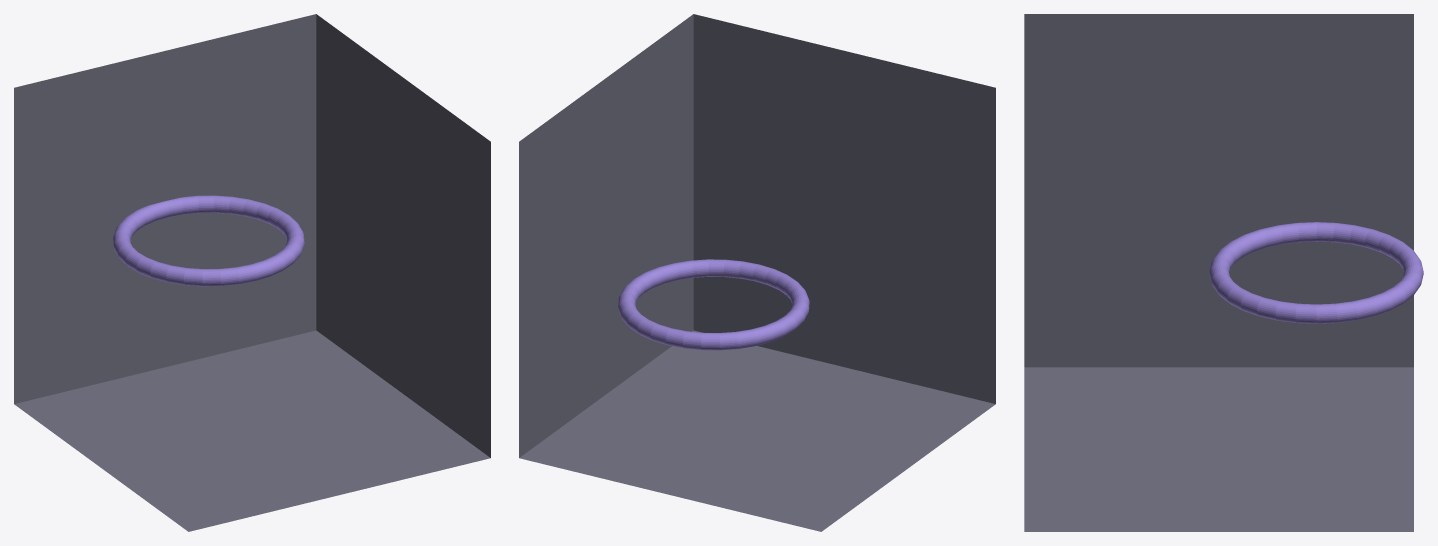
Rendered from portal_scene.glb.
3 views of the same model, side by side, from view 1: azimuth 30°, elevation 25°; view 2: azimuth 150°, elevation 25°; view 3: azimuth 270°, elevation 25° (orthographic). The views are drawn at different scales.
Parts seen in each view (by area): view 1: Room_Environment, Magic_Portal; view 2: Room_Environment, Magic_Portal; view 3: Room_Environment, Magic_Portal.
Part boxes in pixels (x1=…): Room_Environment: x1=14, y1=14, x2=490, y2=531; Magic_Portal: x1=113, y1=195, x2=304, y2=286; Room_Environment: x1=519, y1=14, x2=995, y2=531; Magic_Portal: x1=618, y1=259, x2=809, y2=350; Room_Environment: x1=1024, y1=14, x2=1413, y2=531; Magic_Portal: x1=1209, y1=222, x2=1423, y2=323.
Bounding box in the file's own units: 6 × 6 × 6.15.
